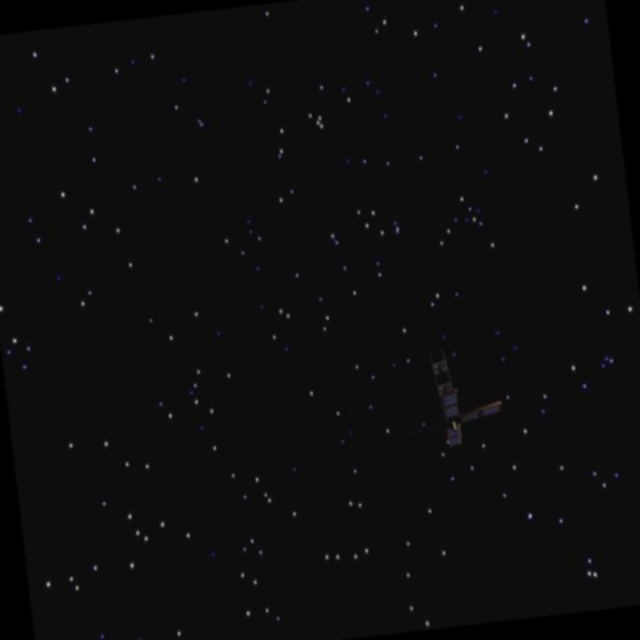satellite: (419, 338, 510, 454)
